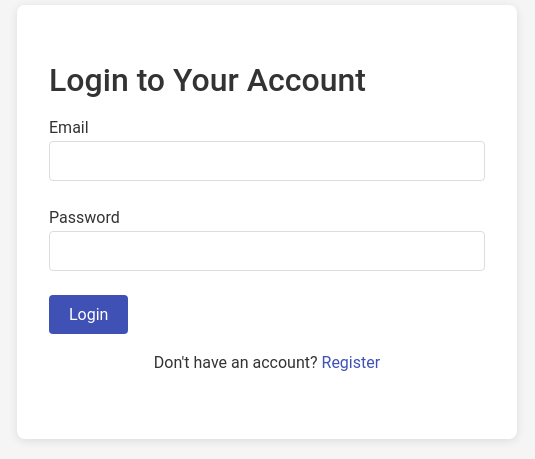
Scenario: Login Component › disables submit button while submitting
Type "test@example.com" into the field labelled "Email".
click(267, 161); type("test@example.com")  # box [49, 141, 485, 181]
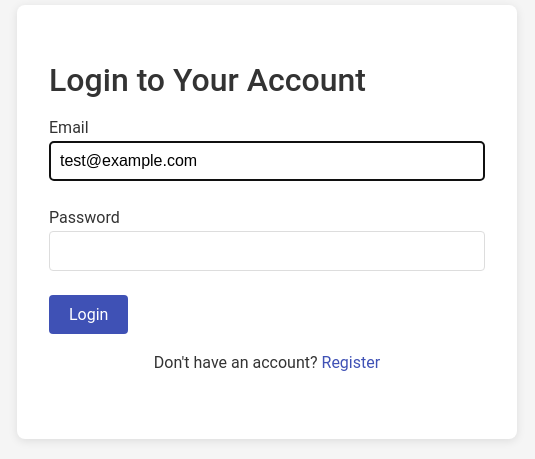
Type "Password123" into the password field labelled "Password".
click(267, 251); type("Password123")  # box [49, 231, 485, 271]
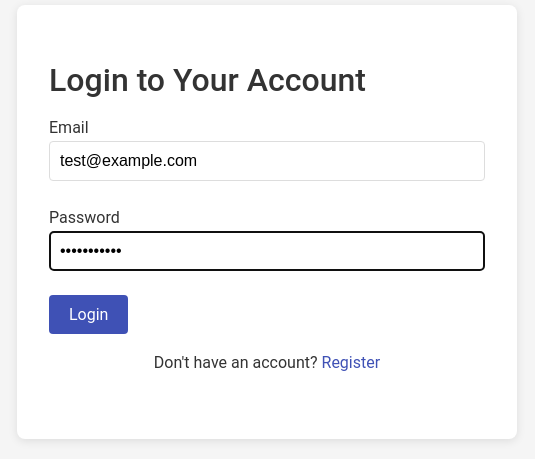
Click the button "Login".
click(89, 314)  # box [49, 295, 128, 334]
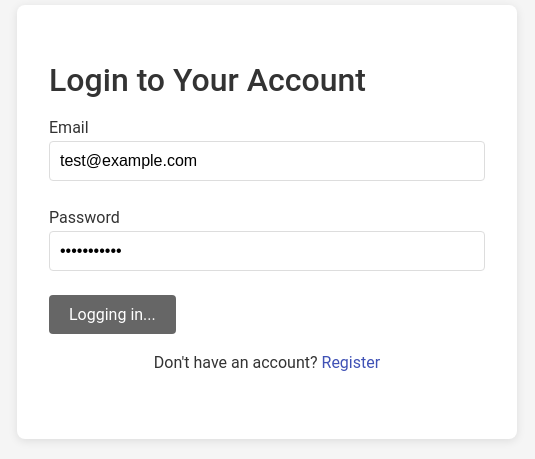
Now the button "Logging in..." is disabled, box [49, 295, 176, 334]
